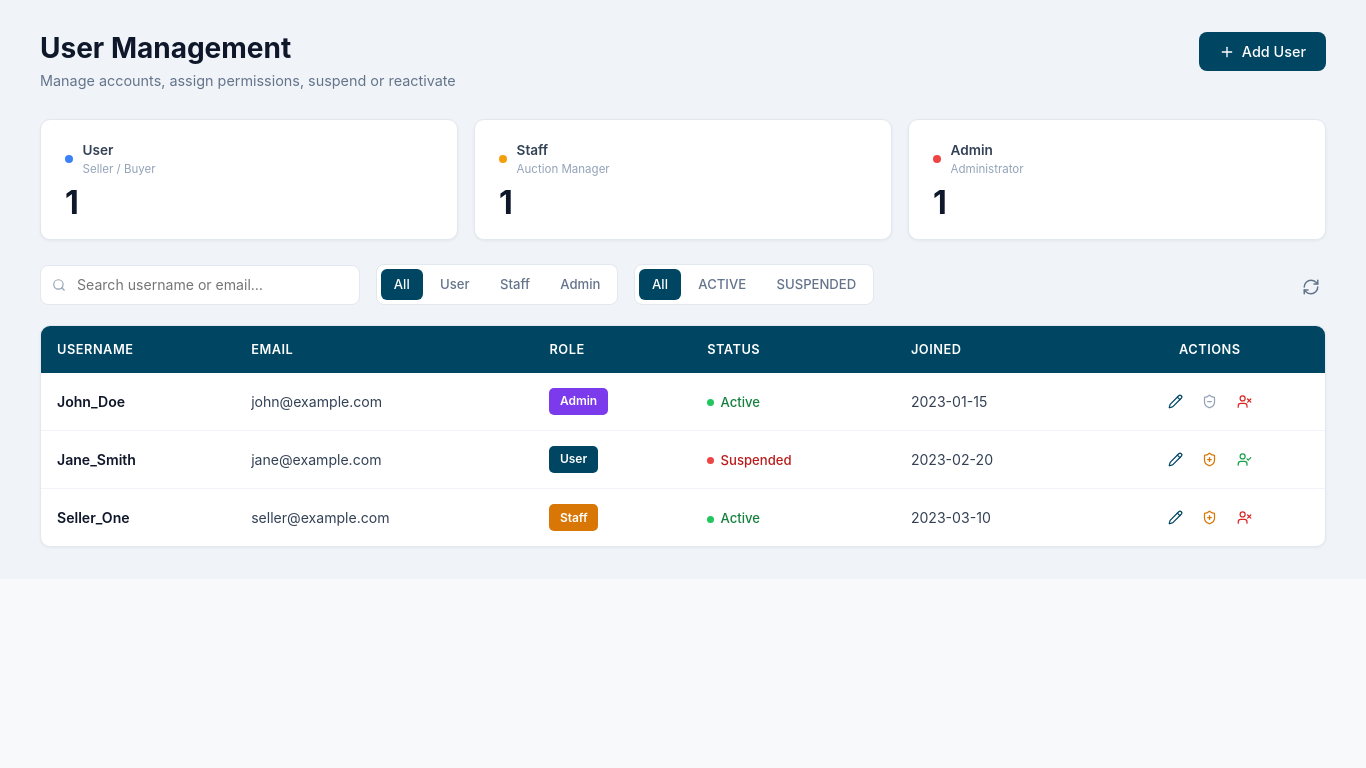
Test: UserManagement Component › opens Create User modal when Add User button is clicked
Click the button "Add User" at {"x": 1263, "y": 52}, box [1200, 32, 1326, 71]
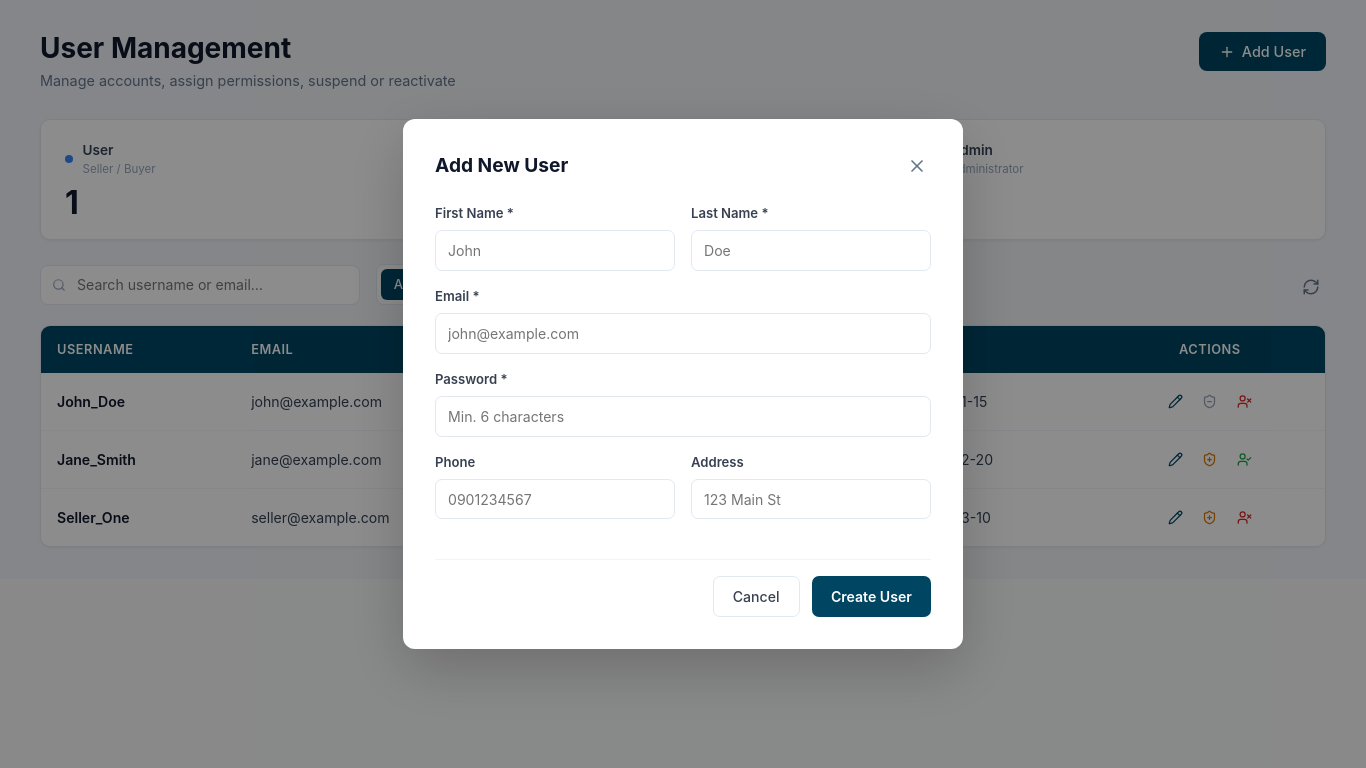
Now the heading "Add New User" is shown, box [435, 154, 568, 177]
